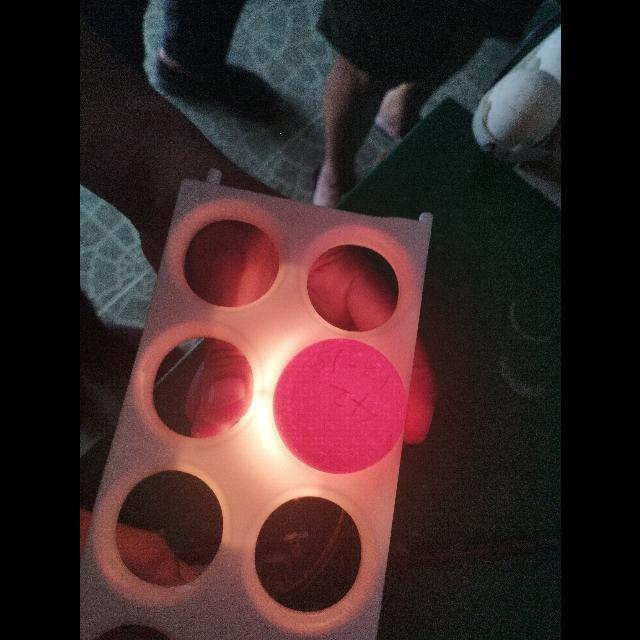Infertile: (282, 336, 398, 474)
